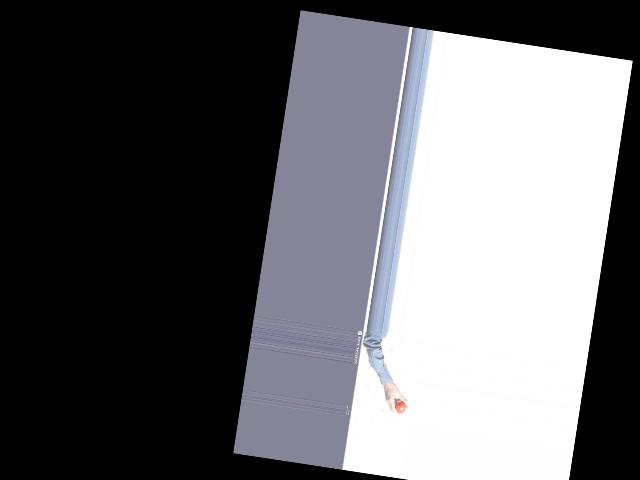tomato: (394, 401, 406, 414)
